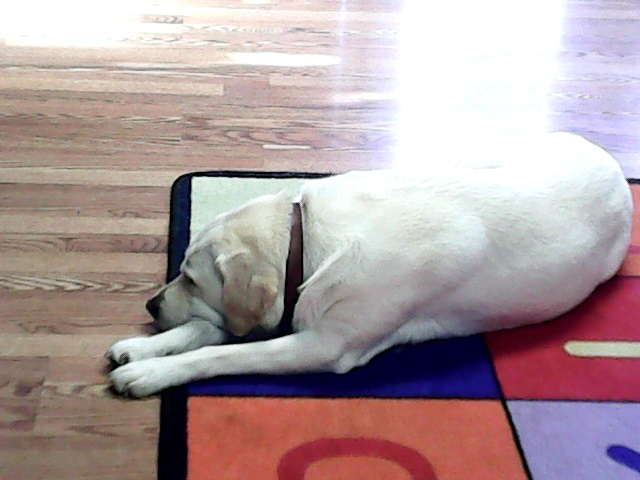dog: (98, 124, 633, 399)
